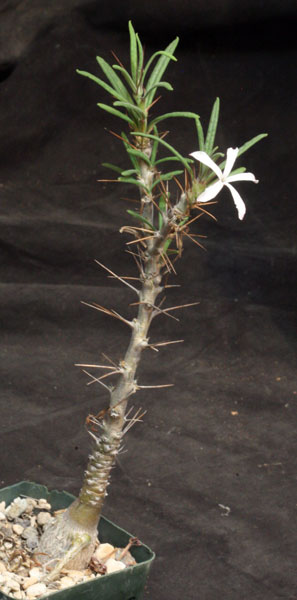Pachypodium meridionale: (84, 32, 271, 545)
